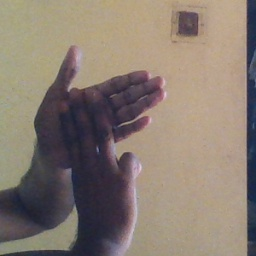M: (27, 42, 173, 202)
